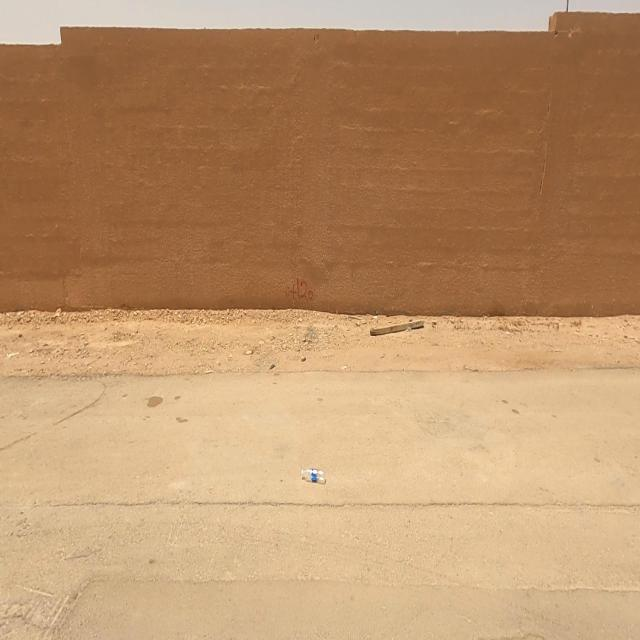Graffiti: (285, 276, 316, 305)
